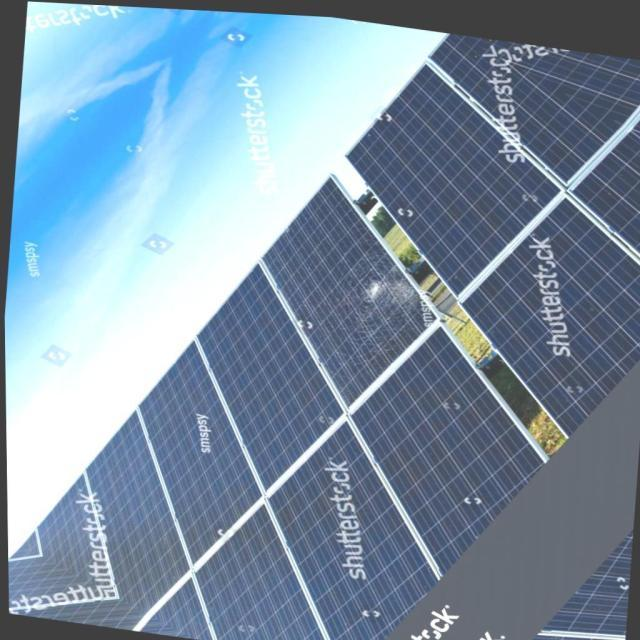cracked: (255, 182, 446, 410)
